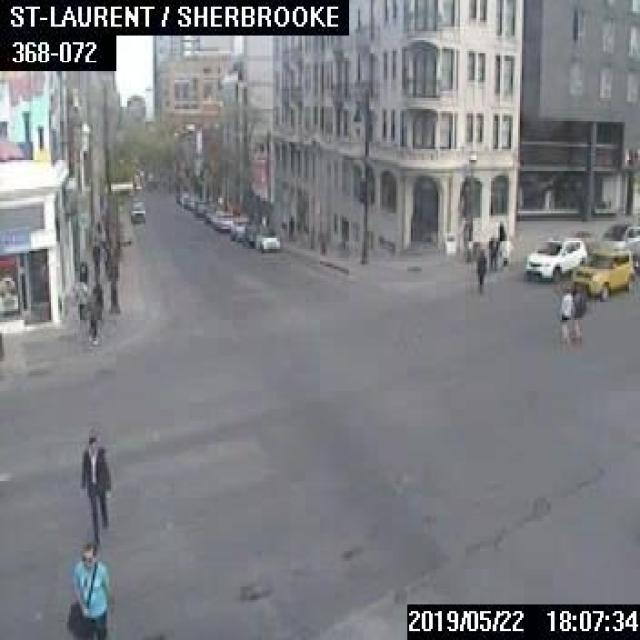pedestrian: (70, 542, 111, 638), (78, 433, 111, 540), (84, 289, 100, 343), (557, 288, 572, 340), (572, 286, 586, 340), (70, 279, 86, 321), (474, 248, 486, 290), (498, 232, 512, 267), (488, 237, 496, 268)
vehicle: (570, 246, 632, 298), (524, 235, 586, 277), (598, 221, 638, 265), (254, 227, 278, 250), (242, 222, 263, 245), (230, 216, 250, 240), (210, 209, 232, 228), (128, 200, 146, 221), (194, 198, 207, 216), (203, 204, 217, 220)
